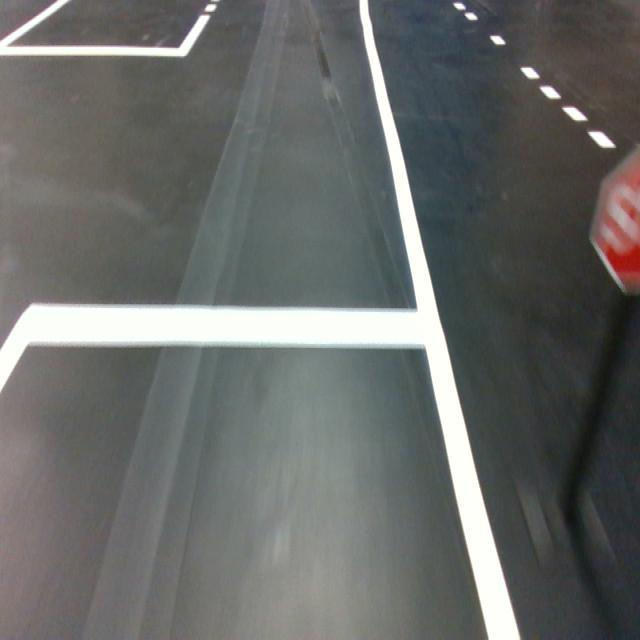stop-sign: (588, 141, 640, 298)
